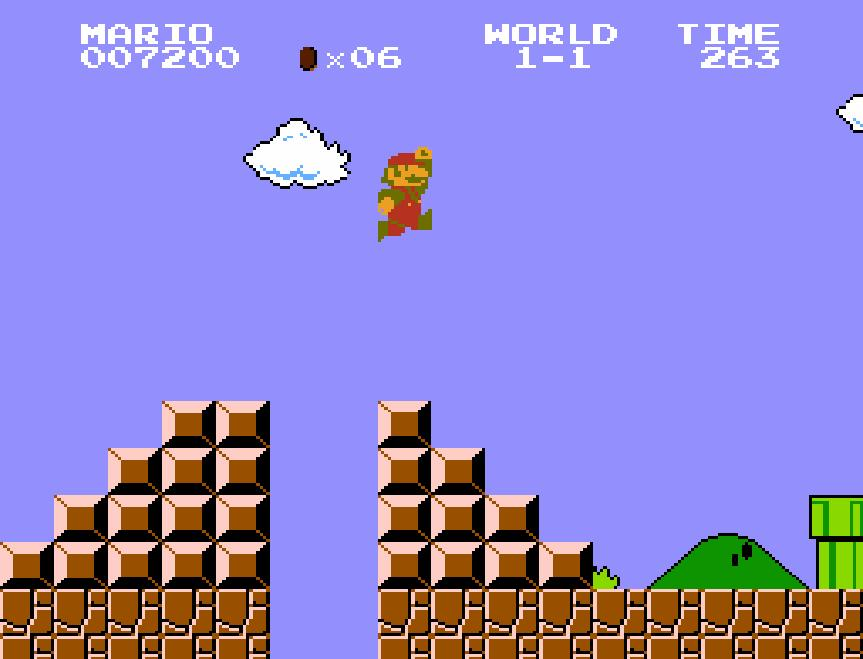big_mario: (376, 144, 434, 243)
